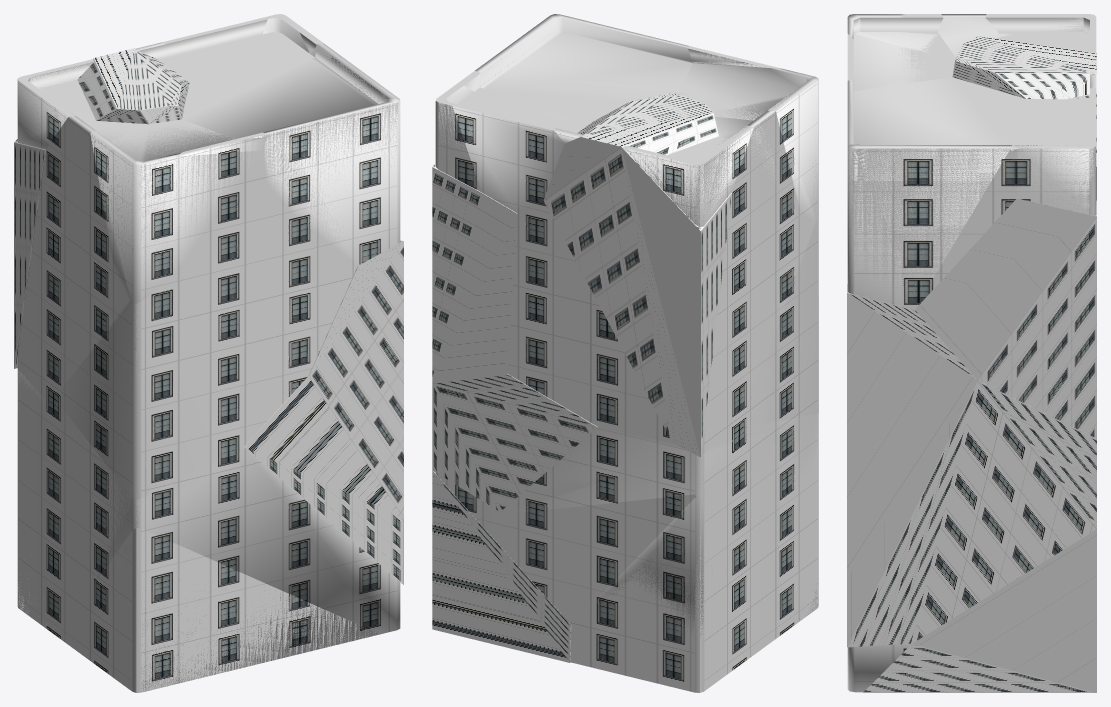
Rendered from debri3.fbx.
3 renders of one model, left to right at view 1: azimuth 30°, elevation 25°; view 2: azimuth 150°, elevation 25°; view 3: azimuth 270°, elevation 25°, orthographic. The views are drawn at different scales.
Parts seen in each view (by area): view 1: pCube1, pCube1_cell.008, pCube1_cell.005, pCube1_cell.019, pCube1_cell.017, pCube1_cell.012, pCube1_cell.016, pCube1_cell.010, pCube1_cell.018, pCube1_cell, pCube1_cell.013, pCube1_cell.011 (+1 smaller); view 2: pCube1, pCube1_cell.010, pCube1_cell.009, pCube1_cell.005, pCube1_cell.016, pCube1_cell.019, pCube1_cell.014, pCube1_cell.007, pCube1_cell.017, pCube1_cell.008, pCube1_cell.001, pCube1_cell.002 (+4 smaller); view 3: pCube1_cell.016, pCube1, pCube1_cell.005, pCube1_cell.009, pCube1_cell.014, pCube1_cell.012, pCube1_cell.010, pCube1_cell.015, pCube1_cell.017, pCube1_cell.019, pCube1_cell.011.
Part boxes in pixels (left/top/right/bottom): pCube1: left=17, top=14, right=398, bottom=692; pCube1_cell.008: left=54, top=220, right=308, bottom=499; pCube1_cell.005: left=182, top=43, right=400, bottom=265; pCube1_cell.019: left=17, top=369, right=400, bottom=634; pCube1_cell.017: left=90, top=120, right=266, bottom=303; pCube1_cell.012: left=308, top=240, right=403, bottom=517; pCube1_cell.016: left=244, top=376, right=403, bottom=584; pCube1_cell.010: left=14, top=48, right=189, bottom=368; pCube1_cell.018: left=117, top=529, right=379, bottom=691; pCube1_cell: left=54, top=185, right=295, bottom=397; pCube1_cell.013: left=17, top=63, right=95, bottom=149; pCube1_cell.011: left=68, top=116, right=148, bottom=141; pCube1: left=435, top=28, right=818, bottom=692; pCube1_cell.010: left=543, top=93, right=731, bottom=457; pCube1_cell.009: left=432, top=163, right=517, bottom=382; pCube1_cell.005: left=475, top=14, right=692, bottom=120; pCube1_cell.016: left=432, top=374, right=597, bottom=511; pCube1_cell.019: left=502, top=414, right=817, bottom=514; pCube1_cell.014: left=432, top=470, right=571, bottom=662; pCube1_cell.007: left=507, top=200, right=671, bottom=441; pCube1_cell.017: left=679, top=62, right=818, bottom=220; pCube1_cell.008: left=741, top=219, right=818, bottom=425; pCube1_cell.001: left=452, top=73, right=579, bottom=213; pCube1_cell.002: left=585, top=496, right=707, bottom=635; pCube1_cell.016: left=847, top=380, right=1096, bottom=647; pCube1: left=847, top=14, right=1096, bottom=309; pCube1_cell.005: left=847, top=77, right=1032, bottom=309; pCube1_cell.009: left=915, top=198, right=1096, bottom=438; pCube1_cell.014: left=863, top=529, right=1096, bottom=692; pCube1_cell.012: left=847, top=284, right=977, bottom=577; pCube1_cell.010: left=952, top=36, right=1096, bottom=200; pCube1_cell.015: left=1017, top=146, right=1096, bottom=214; pCube1_cell.017: left=847, top=14, right=937, bottom=91; pCube1_cell.019: left=847, top=643, right=911, bottom=692; pCube1_cell.011: left=937, top=14, right=997, bottom=57.
Size of the model in its own units: 2668 by 5020 by 2087.
